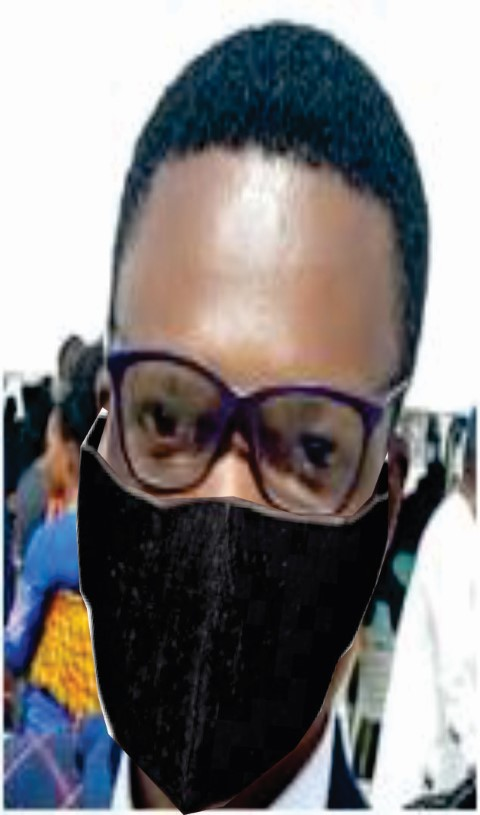with_facemask: (70, 457, 384, 815)
